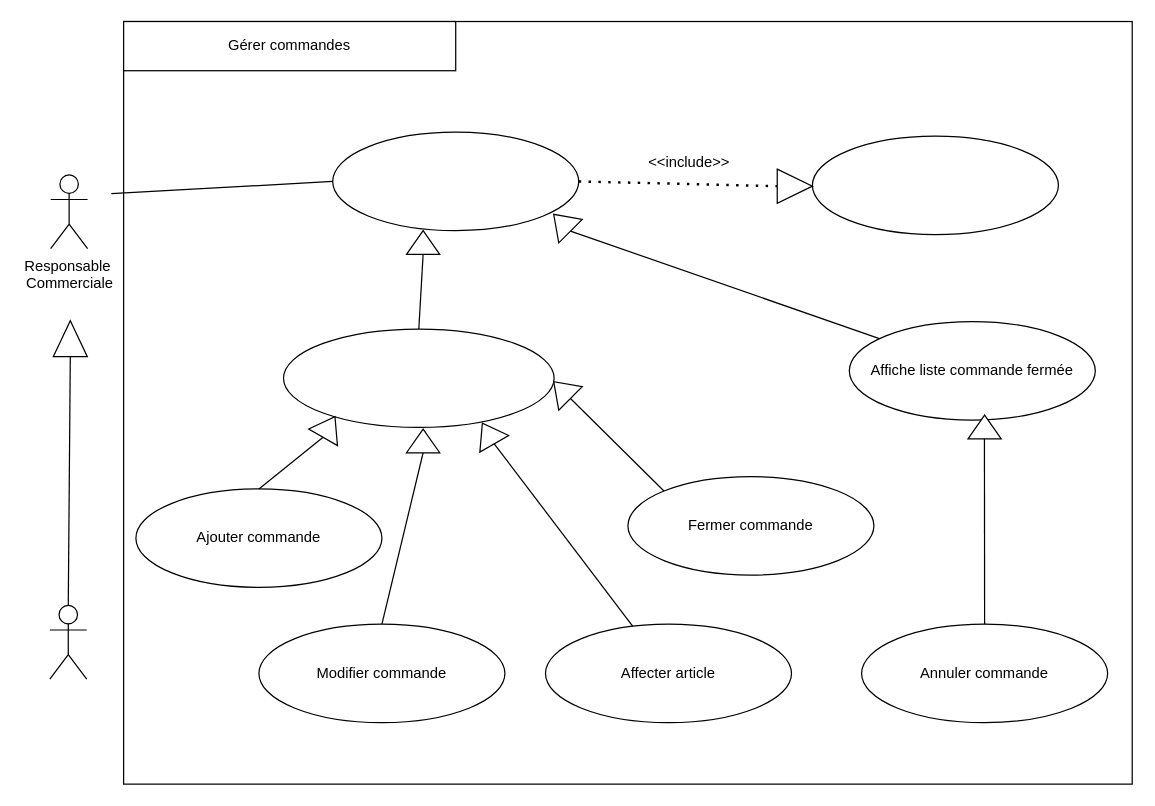
Image size: 1155x806. Some labels were removed from this diagram. The shapes that lost their labels are listed below. From the top down, each one's box as (x1, y1, x2, y2) in pixels, then its label:
(331, 131, 579, 231): Gérer les commandes
(811, 135, 1058, 235): S'authentifier
(282, 328, 554, 427): Affiche liste commande
(49, 604, 87, 679): administrateur
